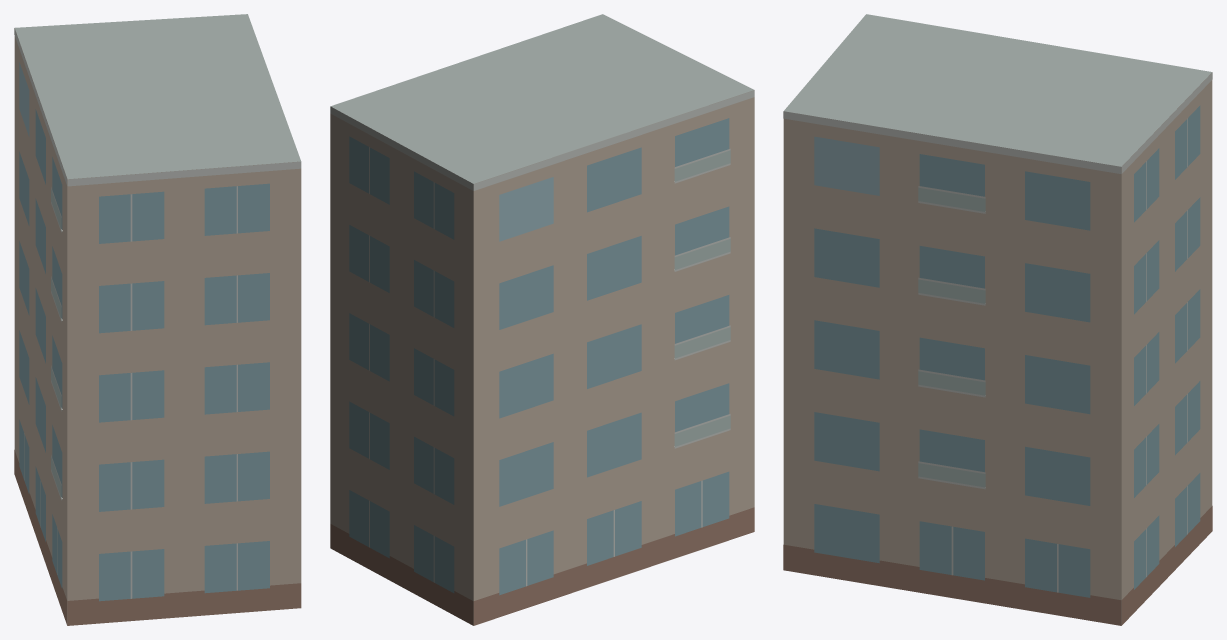
Rendered from survey-upis-33026005.glb.
3 renders of one model, left to right at view 1: azimuth 30°, elevation 25°; view 2: azimuth 150°, elevation 25°; view 3: azimuth 270°, elevation 25°, orthographic. The views are drawn at different scales.
Parts seen in each view (by area): view 1: survey-upis-33026005.tmp; view 2: survey-upis-33026005.tmp; view 3: survey-upis-33026005.tmp.
Boxes of the visible parts, <box> form: survey-upis-33026005.tmp: <box>14,14,301,625</box>; survey-upis-33026005.tmp: <box>330,14,754,625</box>; survey-upis-33026005.tmp: <box>783,14,1212,625</box>.
Size of the model in its own units: 10.79 by 15.1 by 12.8.
